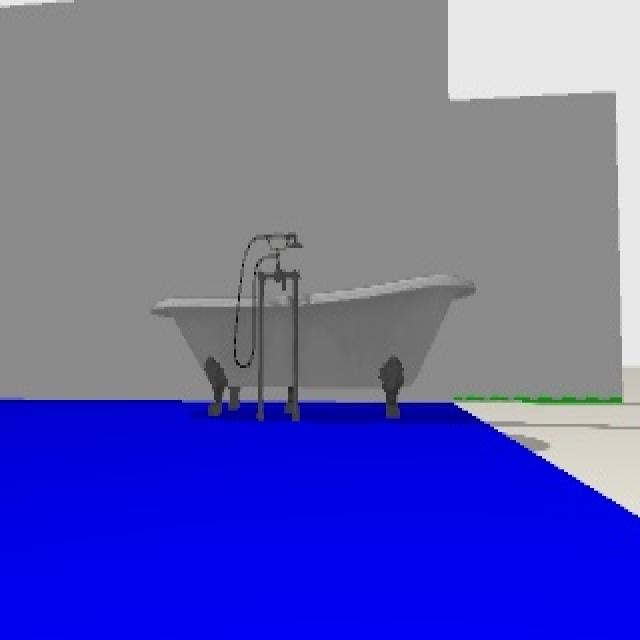bathtub: (150, 232, 478, 421)
